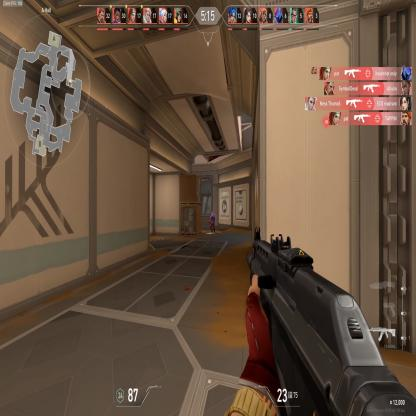enemy: (209, 211, 216, 233)
